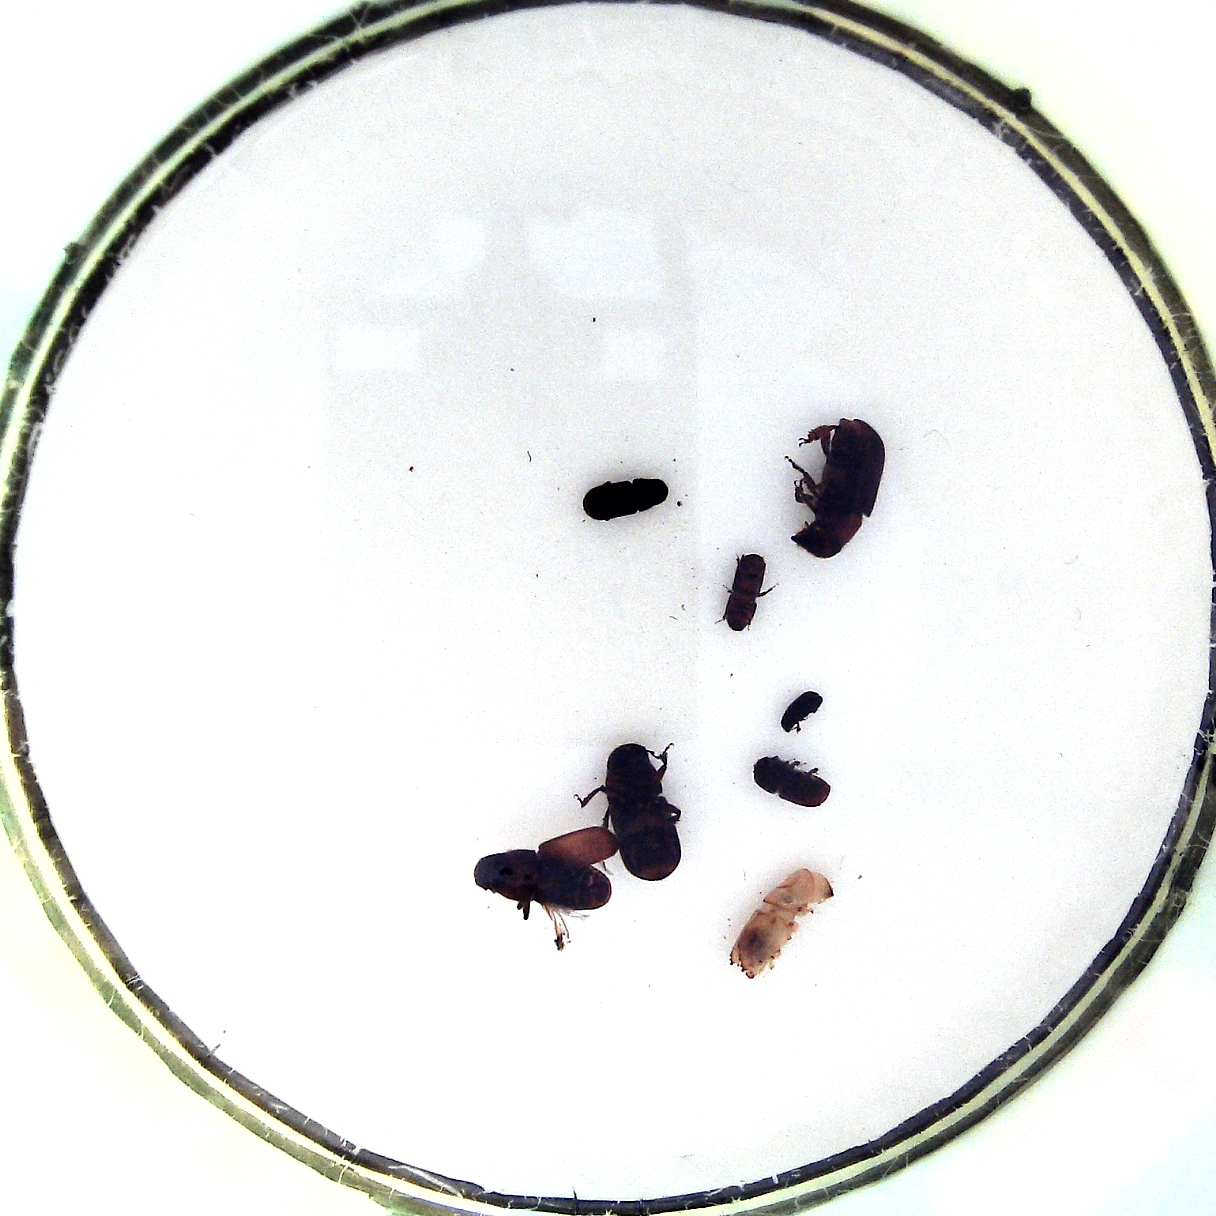Boerner: (725, 863, 835, 982)
Leconte: (469, 833, 616, 947), (787, 416, 885, 561), (604, 738, 685, 881)
Linnaeus: (749, 753, 835, 812)
acuminatus: (720, 549, 771, 636)
armandi: (580, 472, 671, 523)
coleoptera: (774, 684, 828, 738)
